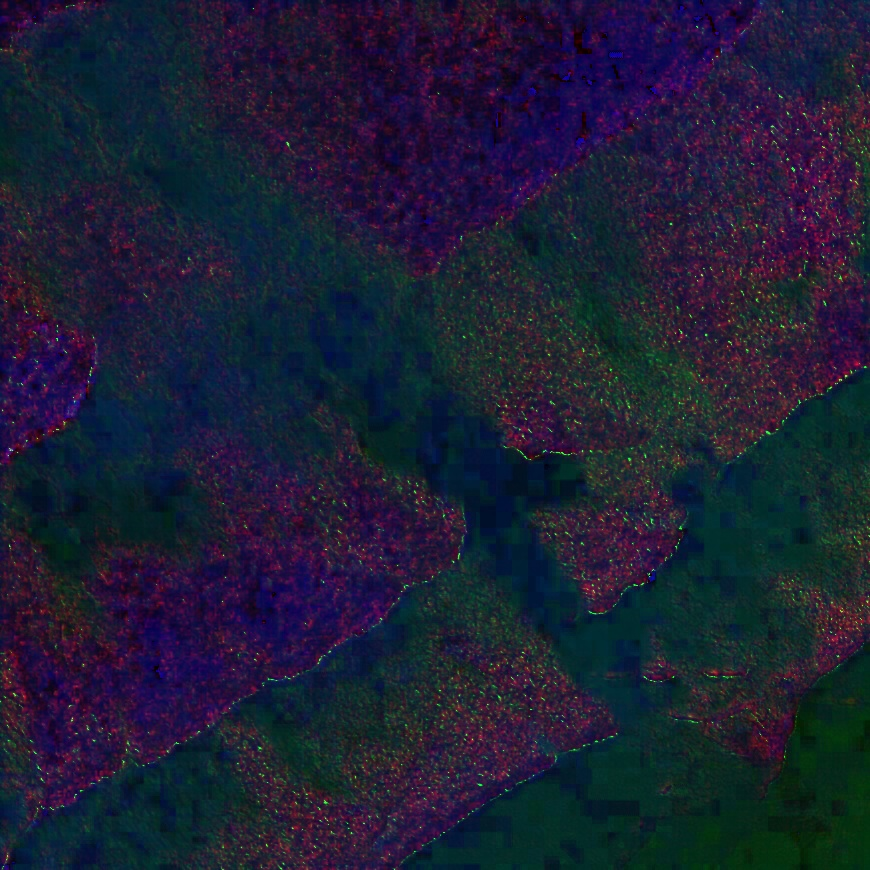rip_current: (134, 134, 716, 738)
